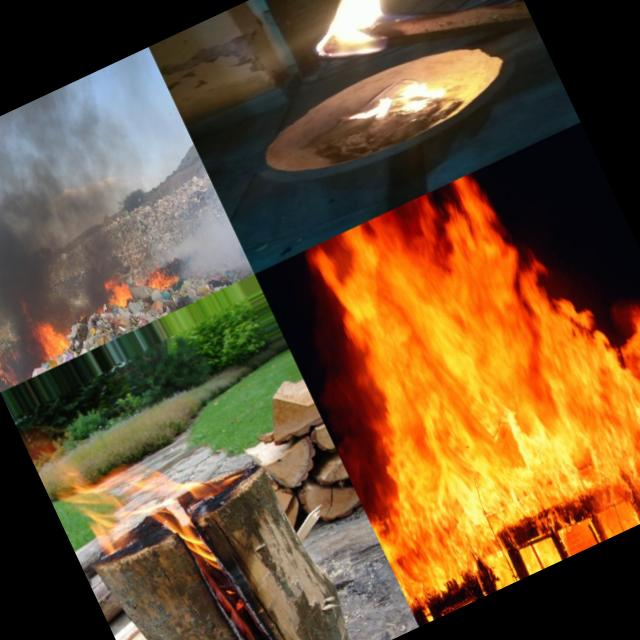fire: (255, 121, 640, 626), (42, 395, 264, 604), (276, 0, 430, 80), (342, 68, 453, 140), (31, 312, 78, 367), (141, 258, 184, 300), (100, 272, 138, 314), (0, 345, 25, 391)
smoke: (0, 78, 161, 338), (119, 113, 250, 292)
